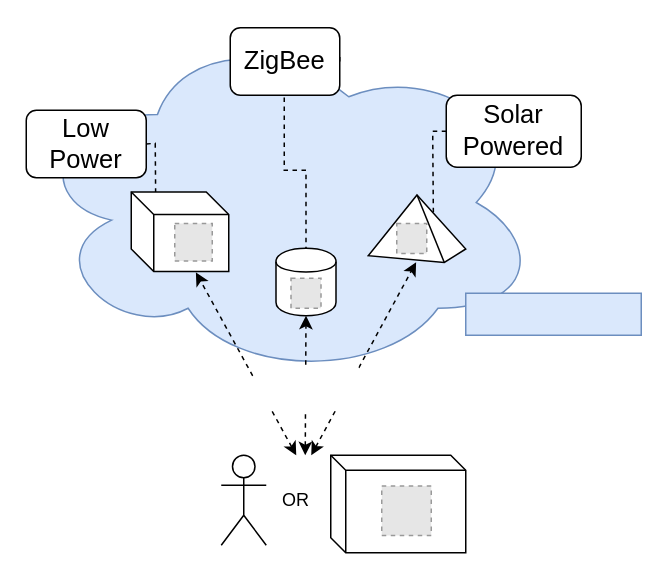
Image size: 668x579. Some labels were removed from this diagram. Grey dashed boxes stand in for pictures. The centre of each missing label's shape, as x and y in pixels:
"Internet" belongs at (x=305, y=387).
"IoT Platform A" belongs at (x=552, y=313).
